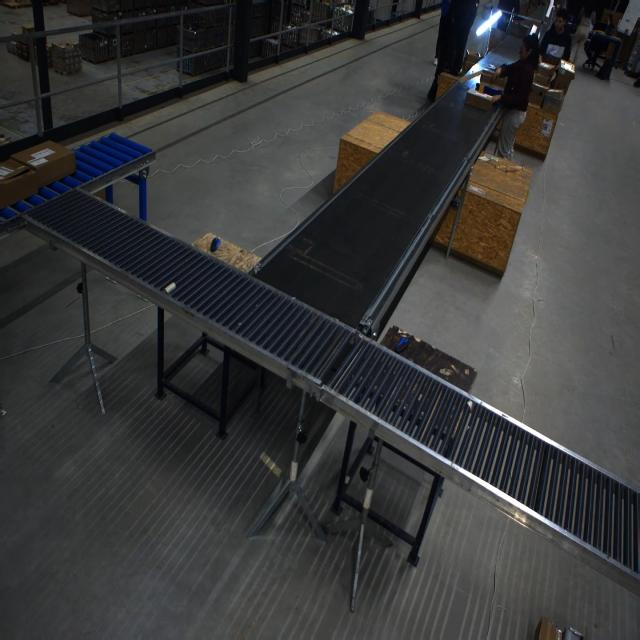box: (1, 139, 84, 215), (549, 60, 574, 92), (464, 88, 494, 112), (540, 88, 564, 113), (533, 61, 556, 86), (529, 82, 551, 106), (461, 50, 481, 75), (540, 53, 565, 72), (479, 68, 501, 86)
